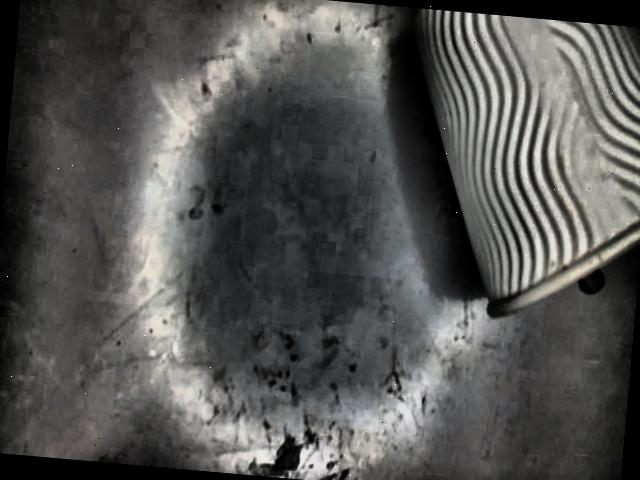Paper: (411, 8, 640, 318)
